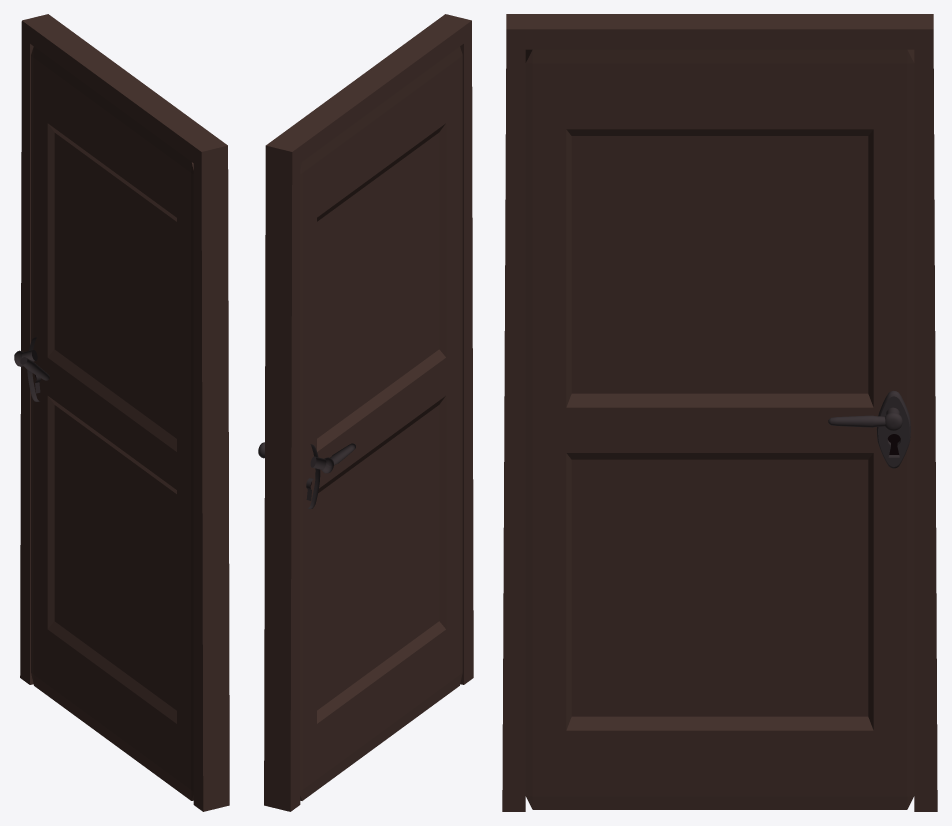
File: doorstatic1.fbx
3 views of the same model, side by side, from view 1: azimuth 30°, elevation 25°; view 2: azimuth 150°, elevation 25°; view 3: azimuth 270°, elevation 25° (orthographic). The views are drawn at different scales.
Visible parts, largest first — view 1: door; view 2: door; view 3: door.
Boxes of the visible parts, box(x1,y1,x2,y2) form: door: box(14, 14, 229, 811); door: box(258, 14, 473, 811); door: box(502, 14, 937, 811).
Bounding box in the file's own units: 57.32 × 502 × 253.
